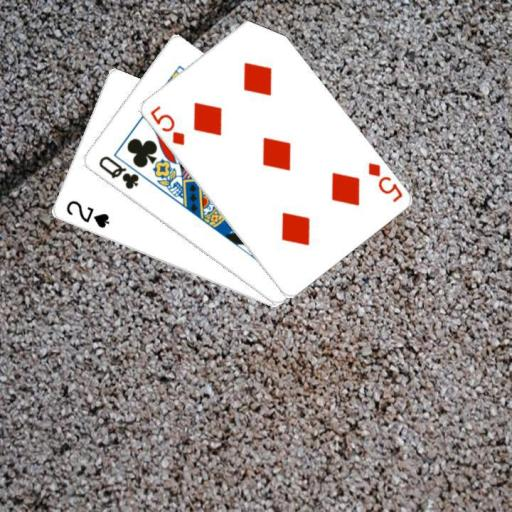2S: (63, 197, 111, 230)
5D: (147, 103, 187, 148), (364, 159, 404, 204)
QC: (95, 152, 141, 191)
